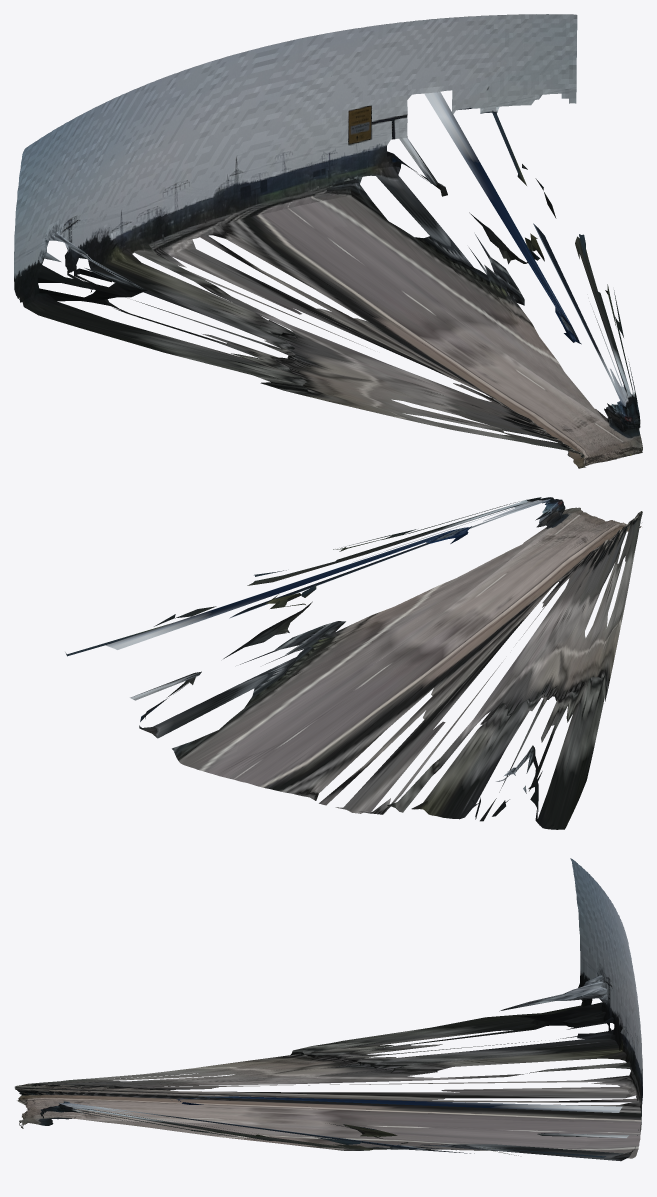
3 renders of one model, top to bottom at view 1: azimuth 30°, elevation 25°; view 2: azimuth 150°, elevation 25°; view 3: azimuth 270°, elevation 25°, orthographic. The views are drawn at different scales.
Parts seen in each view (by area): view 1: defaultobject; view 2: defaultobject; view 3: defaultobject.
Boxes of the visible parts, bbox=[...] form: defaultobject: bbox=[14, 14, 642, 468]; defaultobject: bbox=[65, 497, 642, 829]; defaultobject: bbox=[14, 858, 642, 1161].
Size of the model in its own units: 41.12 by 12.8 by 44.83.
1 material, 1 textured.
